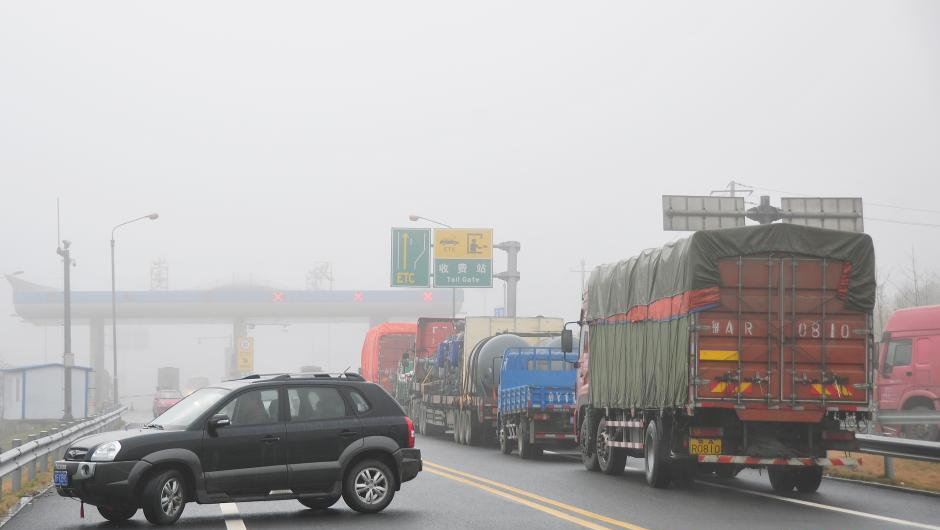bus: (559, 219, 879, 499), (489, 341, 599, 458), (869, 297, 940, 440), (355, 320, 446, 413)
car: (52, 366, 423, 523), (152, 386, 186, 418)
